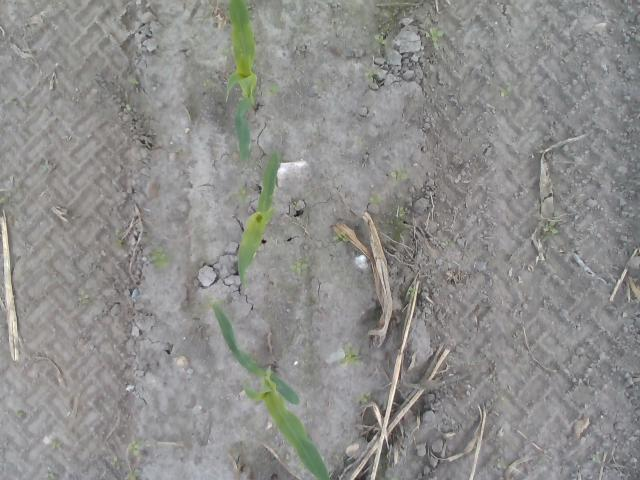Maize: (211, 303, 331, 480), (238, 149, 282, 292), (226, 1, 261, 167)
Weeds: (390, 206, 412, 243), (151, 246, 171, 270), (424, 28, 446, 48), (340, 344, 360, 366), (540, 220, 560, 240), (392, 168, 408, 188), (114, 226, 126, 249), (129, 440, 146, 455), (290, 260, 307, 274), (264, 85, 281, 98), (334, 230, 348, 244), (356, 391, 370, 405), (366, 69, 383, 79), (76, 290, 90, 302), (125, 468, 139, 480), (45, 468, 59, 480), (373, 33, 387, 44), (370, 194, 384, 204), (41, 161, 52, 173), (500, 86, 512, 96), (54, 436, 63, 448), (406, 285, 416, 295), (16, 410, 27, 418), (128, 78, 139, 86), (221, 47, 230, 56), (202, 78, 210, 86), (124, 104, 132, 112), (0, 196, 5, 205)
